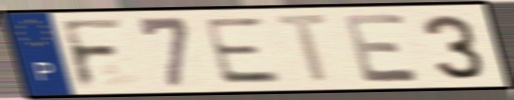3: (419, 12, 488, 82)
7: (134, 15, 195, 90)
E: (339, 11, 425, 85), (199, 15, 287, 87)
F: (57, 16, 129, 90)
T: (271, 12, 338, 87)
